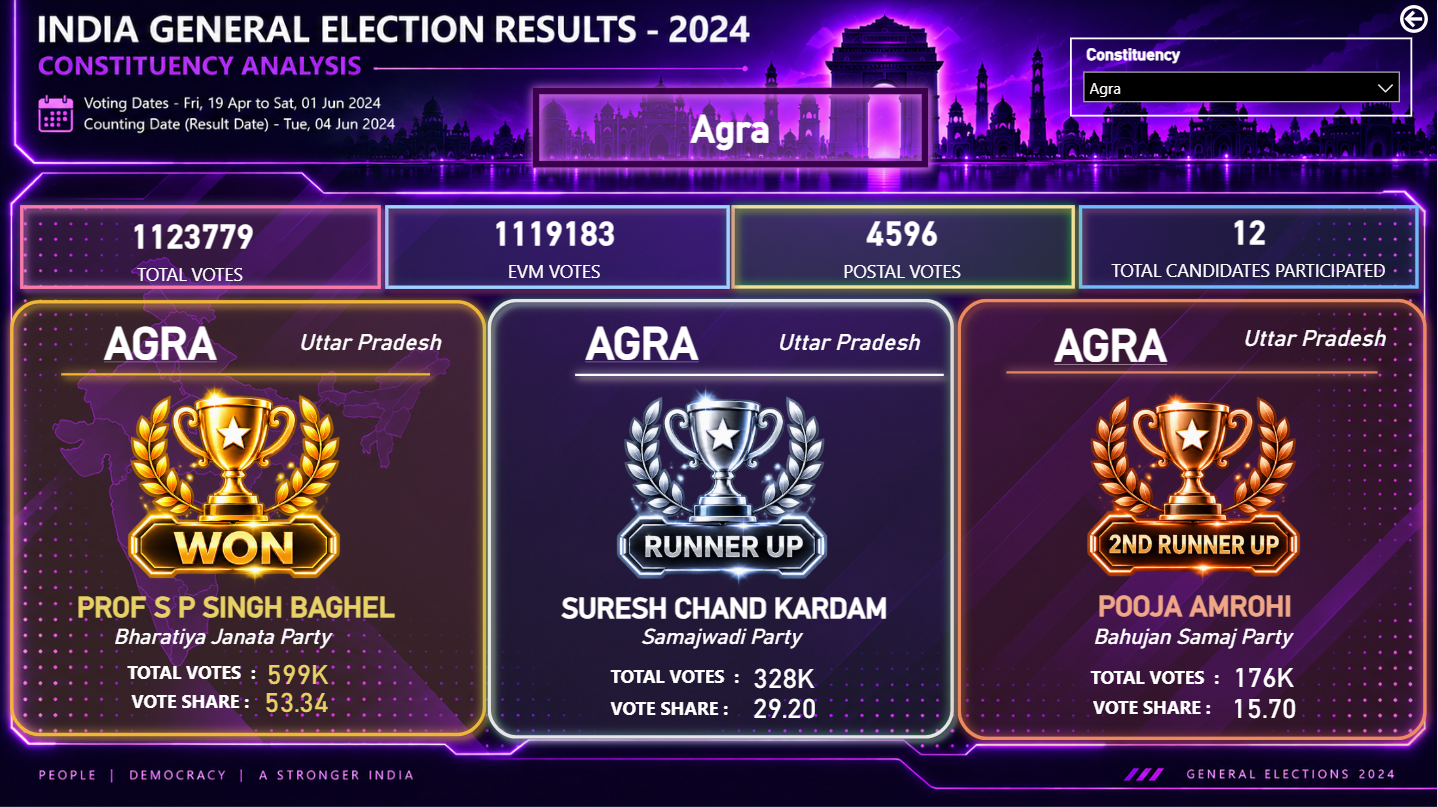

What the dashboard file says about the page in this screenshot:
{"tool":"powerbi","page":{"name":"Constituency Analysis","canvas":[1280,720],"ordinal":4},"visuals":[{"type":"shape","box":[888.8,256.9,346.3,149],"z":0},{"type":"shape","box":[502.7,259.4,346.3,149],"z":1000},{"type":"shape","box":[0,259.4,435.7,404.7],"z":2000},{"type":"shape","box":[425.8,256.9,433.2,409.6],"z":3000},{"type":"shape","box":[844.1,256.9,435.7,410.9],"z":4000},{"type":"card","fields":{"Values":["Constituency_wise_details.2nd Runner Up Party"]},"box":[888.8,521.3,347.6,91.9],"z":5000},{"type":"shape","box":[45.9,258.2,346.3,150.2],"z":6000},{"type":"shape","box":[951.8,173.7,320.6,92.4],"z":7000},{"type":"shape","box":[642.3,173.7,323.9,92.4],"z":8000},{"type":"shape","box":[333.5,173.9,325,92.7],"z":9000},{"type":"shape","box":[8.6,173.9,339.2,92.7],"z":10000},{"type":"card","fields":{"Values":["Sum(Constituency_wise_details.Total Votes)"]},"box":[86.9,162.5,169.6,114],"z":11000},{"type":"slicer","fields":{"Values":["Statewise_results.Constituency"]},"box":[952.5,33.8,305,70],"z":12000},{"type":"card","fields":{"Values":["Sum(Constituency_wise_details.EVM Votes)"]},"box":[380,160.5,228,113.4],"z":13000},{"type":"card","fields":{"Values":["Sum(Constituency_wise_details.Postal Votes)"]},"box":[675.6,160.5,255.8,113.4],"z":14000},{"type":"card","fields":{"Values":["Count(Constituency_wise_details.Candidate)"]},"box":[982,159.3,260.6,113.4],"z":15000},{"type":"card","fields":{"Values":["Min(Constituency_wise_results.Winning Candidate)"]},"box":[37.2,516.4,347.6,47.2],"z":16000},{"type":"card","fields":{"Values":["Min(Constituency_wise_results.Constituency Name)"]},"box":[28.5,276.5,228.1,51.3],"z":17000},{"type":"card","fields":{"Values":["Min(States.State)"]},"box":[242.5,269,173.7,70],"z":18000},{"type":"card","fields":{"Values":["Min(Constituency_wise_details.Party)"]},"box":[6.2,541.2,382.3,52.1],"z":19000},{"type":"card","fields":{"Values":["Sum(Constituency_wise_results.Total Votes)"]},"box":[178.7,574.7,171.3,50.9],"z":20000},{"type":"card","fields":{"Values":["Min(Statewise_results.Trailing Candidate)"]},"box":[465.5,513.9,360,52.1],"z":21000},{"type":"card","fields":{"Values":["Constituency_wise_details.2nd Runner Up Candidate"]},"box":[923.5,501.5,280.5,75.7],"z":22000},{"type":"card","fields":{"Values":["Min(States.State)"]},"box":[675.6,266.6,160.5,74.8],"z":23000},{"type":"card","fields":{"Values":["Constituency_wise_details.Runner Up Party"]},"box":[476.7,543.7,331.4,47.2],"z":24000},{"type":"card","fields":{"Values":["Constituency_wise_details.Runner Up Vote Share"]},"box":[561.1,588.4,275.6,83.2],"z":25000},{"type":"card","fields":{"Values":["Sum(Constituency_wise_details.% of Votes)"]},"box":[188.7,585.9,151.4,79.4],"z":26000},{"type":"card","fields":{"Values":["Constituency_wise_details.Runner Up Total Votes"]},"box":[619.4,556.1,158.9,93.1],"z":27000},{"type":"card","fields":{"Values":["Min(States.State)"]},"box":[1083.4,264.2,174.9,74.8],"z":28000},{"type":"card","fields":{"Values":["Constituency_wise_details.2nd Runner Up Total Votes"]},"box":[1007.9,557.3,235.8,89.4],"z":29000},{"type":"card","fields":{"Values":["Constituency_wise_details.2nd Runner Up Vote Share"]},"box":[1014.1,590.9,223.4,78.2],"z":30000},{"type":"card","fields":{"Values":["Min(Constituency_wise_results.Constituency Name)"]},"box":[466.1,276.5,211,51.3],"z":31000},{"type":"card","fields":{"Values":["Min(Constituency_wise_results.Constituency Name)"]},"box":[883.7,278,211,51.3],"z":32000},{"type":"image","box":[86.9,327.7,247,211],"z":33000},{"type":"image","box":[486.6,328.9,316.5,211],"z":34000},{"type":"image","box":[942.1,328.9,243.3,208.5],"z":35000},{"type":"textbox","box":[98.1,582.2,145.2,39.7],"z":36000},{"type":"textbox","box":[72,608.2,198.6,43.4],"z":37000},{"type":"textbox","box":[538.7,585.9,137.8,41],"z":38000},{"type":"textbox","box":[538.7,614.4,156.4,37.2],"z":39000},{"type":"textbox","box":[965.7,587.1,135.3,32.3],"z":40000},{"type":"textbox","box":[968.2,613.2,151.4,50.9],"z":41000},{"type":"shape","box":[465.7,68.8,370.4,89.3],"z":42000},{"type":"card","fields":{"Values":["Constituency_wise_details.selected constituency"]},"box":[476.5,78.4,348.7,68.8],"z":43000},{"type":"actionButton","box":[1242.6,0,37.4,33.8],"z":44000}]}

Visuals, with their boxes in screenshot pixels (x1, y1, x2, y2), scaled from the page's 1280x720 canvas onto the 1438x807 screenshot:
shape: left=999, top=288, right=1388, bottom=455
shape: left=565, top=291, right=954, bottom=458
shape: left=0, top=291, right=489, bottom=744
shape: left=478, top=288, right=965, bottom=747
shape: left=948, top=288, right=1437, bottom=748
card - Constituency_wise_details.2nd Runner Up Party: left=999, top=584, right=1389, bottom=687
shape: left=52, top=289, right=441, bottom=458
shape: left=1069, top=195, right=1429, bottom=298
shape: left=722, top=195, right=1085, bottom=298
shape: left=375, top=195, right=740, bottom=299
shape: left=10, top=195, right=391, bottom=299
card - Sum(Constituency_wise_details.Total Votes): left=98, top=182, right=288, bottom=310
slicer - Statewise_results.Constituency: left=1070, top=38, right=1413, bottom=116
card - Sum(Constituency_wise_details.EVM Votes): left=427, top=180, right=683, bottom=307
card - Sum(Constituency_wise_details.Postal Votes): left=759, top=180, right=1046, bottom=307
card - Count(Constituency_wise_details.Candidate): left=1103, top=179, right=1396, bottom=306
card - Min(Constituency_wise_results.Winning Candidate): left=42, top=579, right=432, bottom=632
card - Min(Constituency_wise_results.Constituency Name): left=32, top=310, right=288, bottom=367
card - Min(States.State): left=272, top=302, right=468, bottom=380
card - Min(Constituency_wise_details.Party): left=7, top=607, right=436, bottom=665
card - Sum(Constituency_wise_results.Total Votes): left=201, top=644, right=393, bottom=701
card - Min(Statewise_results.Trailing Candidate): left=523, top=576, right=927, bottom=634
card - Constituency_wise_details.2nd Runner Up Candidate: left=1037, top=562, right=1353, bottom=647
card - Min(States.State): left=759, top=299, right=939, bottom=383
card - Constituency_wise_details.Runner Up Party: left=536, top=609, right=908, bottom=662
card - Constituency_wise_details.Runner Up Vote Share: left=630, top=659, right=940, bottom=753
card - Sum(Constituency_wise_details.% of Votes): left=212, top=657, right=382, bottom=746
card - Constituency_wise_details.Runner Up Total Votes: left=696, top=623, right=874, bottom=728
card - Min(States.State): left=1217, top=296, right=1414, bottom=380
card - Constituency_wise_details.2nd Runner Up Total Votes: left=1132, top=625, right=1397, bottom=725
card - Constituency_wise_details.2nd Runner Up Vote Share: left=1139, top=662, right=1390, bottom=750
card - Min(Constituency_wise_results.Constituency Name): left=524, top=310, right=761, bottom=367
card - Min(Constituency_wise_results.Constituency Name): left=993, top=312, right=1230, bottom=369
image: left=98, top=367, right=375, bottom=604
image: left=547, top=369, right=902, bottom=605
image: left=1058, top=369, right=1332, bottom=602
textbox: left=110, top=653, right=273, bottom=697
textbox: left=81, top=682, right=304, bottom=730
textbox: left=605, top=657, right=760, bottom=703
textbox: left=605, top=689, right=781, bottom=730
textbox: left=1085, top=658, right=1237, bottom=694
textbox: left=1088, top=687, right=1258, bottom=744
shape: left=523, top=77, right=939, bottom=177
card - Constituency_wise_details.selected constituency: left=535, top=88, right=927, bottom=165
actionButton: left=1396, top=0, right=1437, bottom=38
